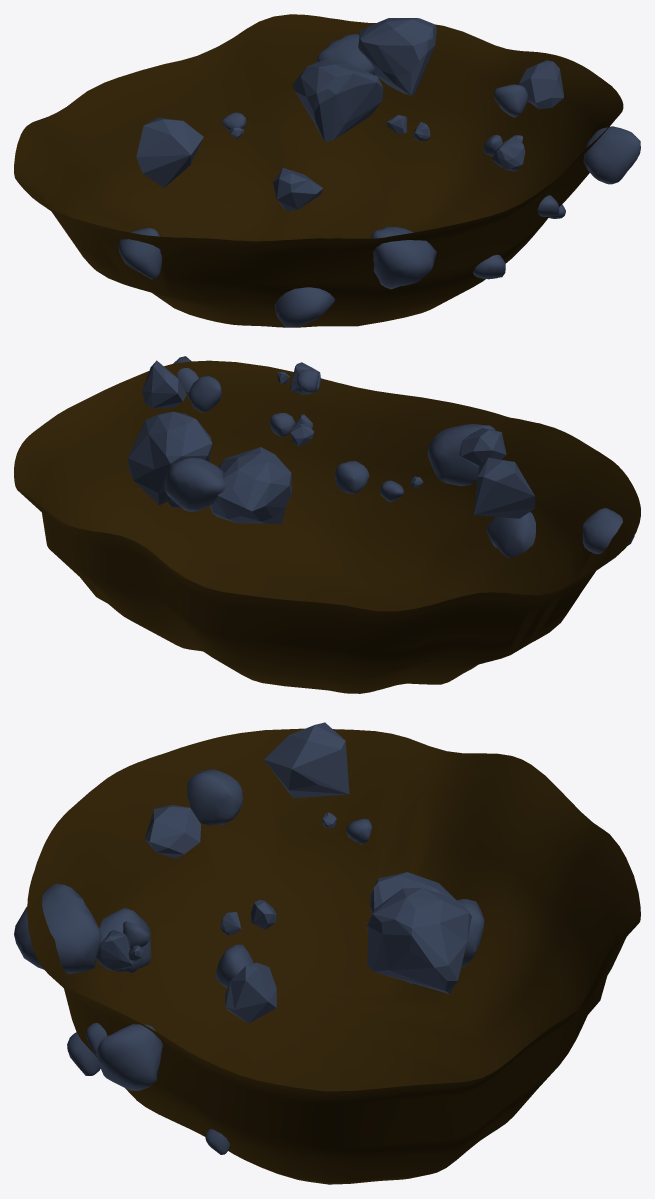
File: Island_No_Ground.fbx
3 views of the same model, one above another, from view 1: azimuth 30°, elevation 25°; view 2: azimuth 150°, elevation 25°; view 3: azimuth 270°, elevation 25° (orthographic). The views are drawn at different scales.
Visible parts, largest first — view 1: Island No Ground; view 2: Island No Ground; view 3: Island No Ground.
Boxes of the visible parts, left/top/right/bottom form: Island No Ground: left=14, top=14, right=640, bottom=327; Island No Ground: left=14, top=356, right=640, bottom=693; Island No Ground: left=14, top=722, right=640, bottom=1184.
Size of the model in its own units: 1648 by 590 by 1251.
